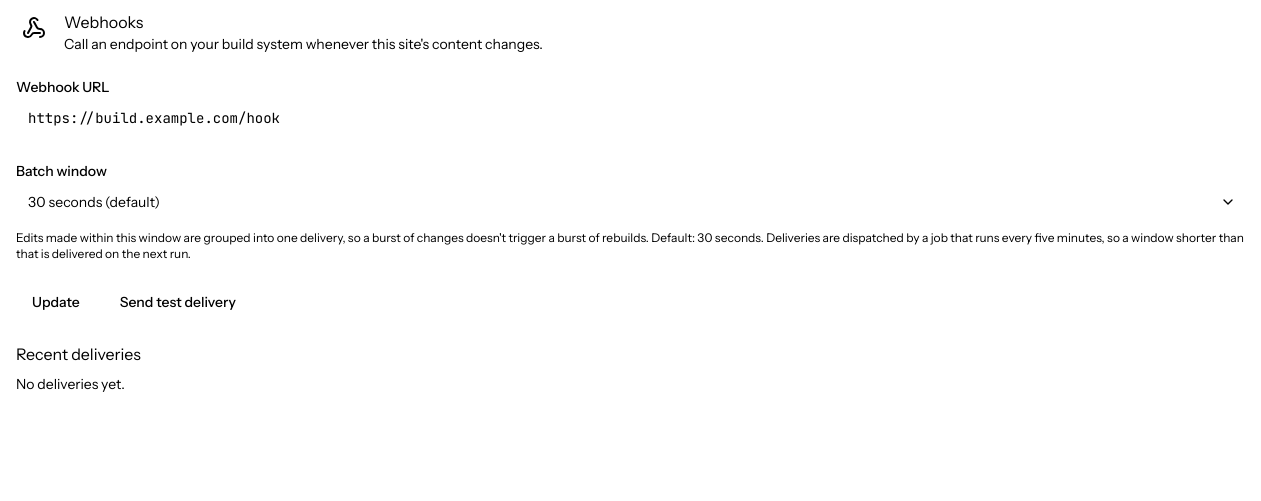
Test: WebhooksPanel › manual test delivery › reports a successful test inline
Click the button "Send test delivery" at (178, 302), box [104, 282, 252, 322]
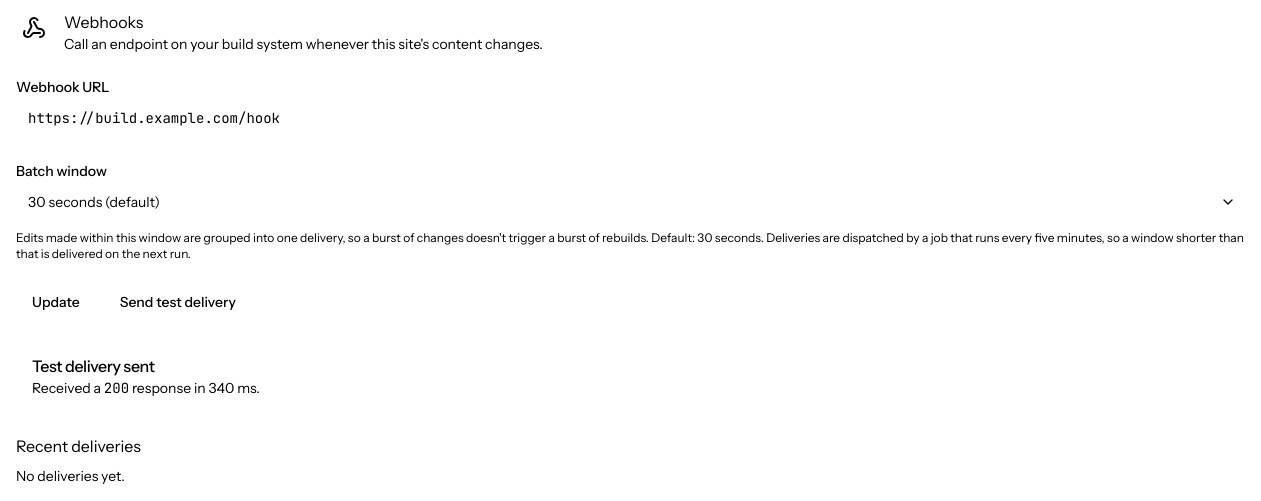
expect the heading "Test delivery sent" is shown: met, box [32, 356, 154, 376]
expect the text "340" is shown: met, box [208, 379, 234, 397]
